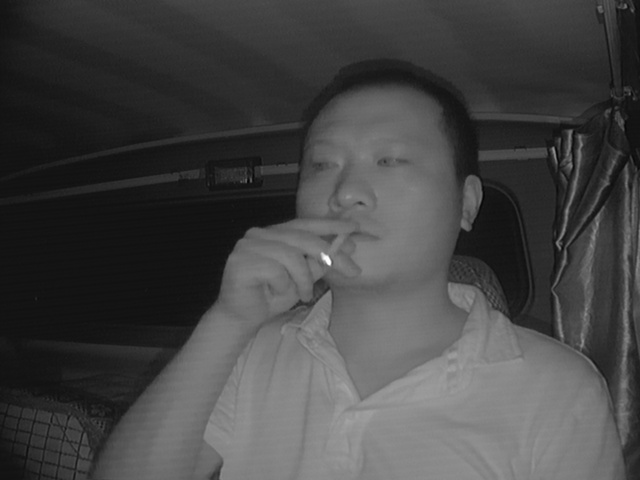hand: (241, 211, 351, 308)
